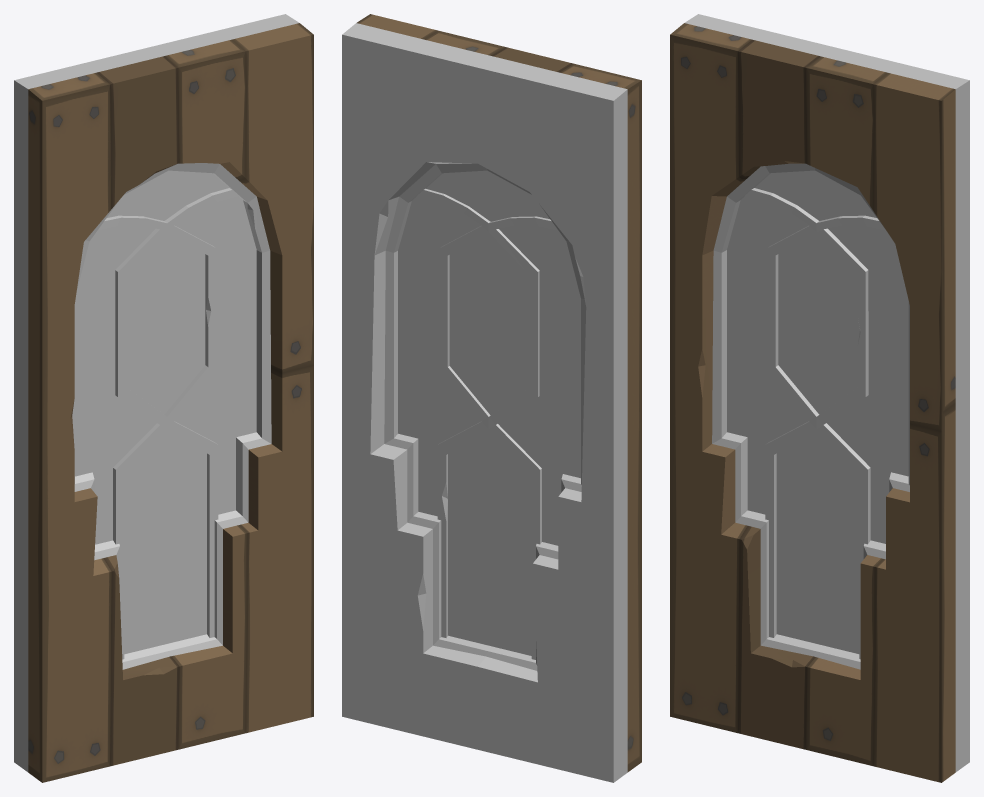
Rendered from SM_Bld_Deco_Wall_Window_04_Half_01.fbx.
3 views of the same model, side by side, from view 1: azimuth 30°, elevation 25°; view 2: azimuth 150°, elevation 25°; view 3: azimuth 330°, elevation 25° (orthographic).
Parts seen in each view (by area): view 1: SM_Bld_Deco_Wall_Window_04_Half_01, SM_Bld_Deco_Wall_Window_04_Half_Glass_01; view 2: SM_Bld_Deco_Wall_Window_04_Half_01, SM_Bld_Deco_Wall_Window_04_Half_Glass_01; view 3: SM_Bld_Deco_Wall_Window_04_Half_01, SM_Bld_Deco_Wall_Window_04_Half_Glass_01.
Part boxes in pixels (x1=…): SM_Bld_Deco_Wall_Window_04_Half_01: x1=14, y1=14, x2=313, y2=782; SM_Bld_Deco_Wall_Window_04_Half_Glass_01: x1=75, y1=170, x2=256, y2=654; SM_Bld_Deco_Wall_Window_04_Half_01: x1=342, y1=14, x2=641, y2=782; SM_Bld_Deco_Wall_Window_04_Half_Glass_01: x1=398, y1=170, x2=580, y2=655; SM_Bld_Deco_Wall_Window_04_Half_01: x1=670, y1=14, x2=969, y2=782; SM_Bld_Deco_Wall_Window_04_Half_Glass_01: x1=727, y1=170, x2=908, y2=653.
Bounding box in the file's own units: 125 × 301 × 22.5.
